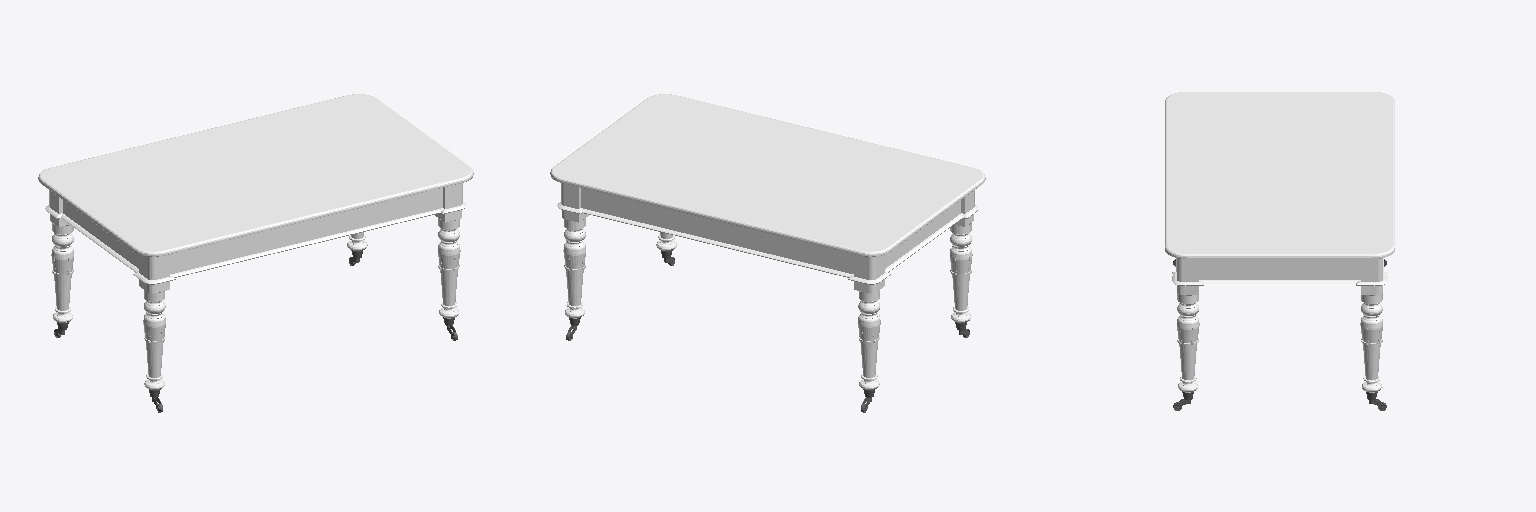
The model's file is table.obj.
3 views of the same model, side by side, from view 1: azimuth 30°, elevation 25°; view 2: azimuth 150°, elevation 25°; view 3: azimuth 270°, elevation 25° (orthographic).
Visible parts, largest first — view 1: obj2, obj3, obj1; view 2: obj2, obj3, obj1; view 3: obj2, obj3.
Part boxes in pixels (left/top/right/bottom): obj2: left=38, top=94, right=473, bottom=256; obj3: left=45, top=183, right=466, bottom=389; obj1: left=54, top=250, right=457, bottom=412; obj2: left=550, top=94, right=985, bottom=256; obj3: left=557, top=183, right=978, bottom=389; obj1: left=566, top=250, right=969, bottom=412; obj2: left=1165, top=92, right=1394, bottom=258; obj3: left=1172, top=258, right=1387, bottom=392.
Bounding box in the file's own units: 13.71 × 6.46 × 8.14.